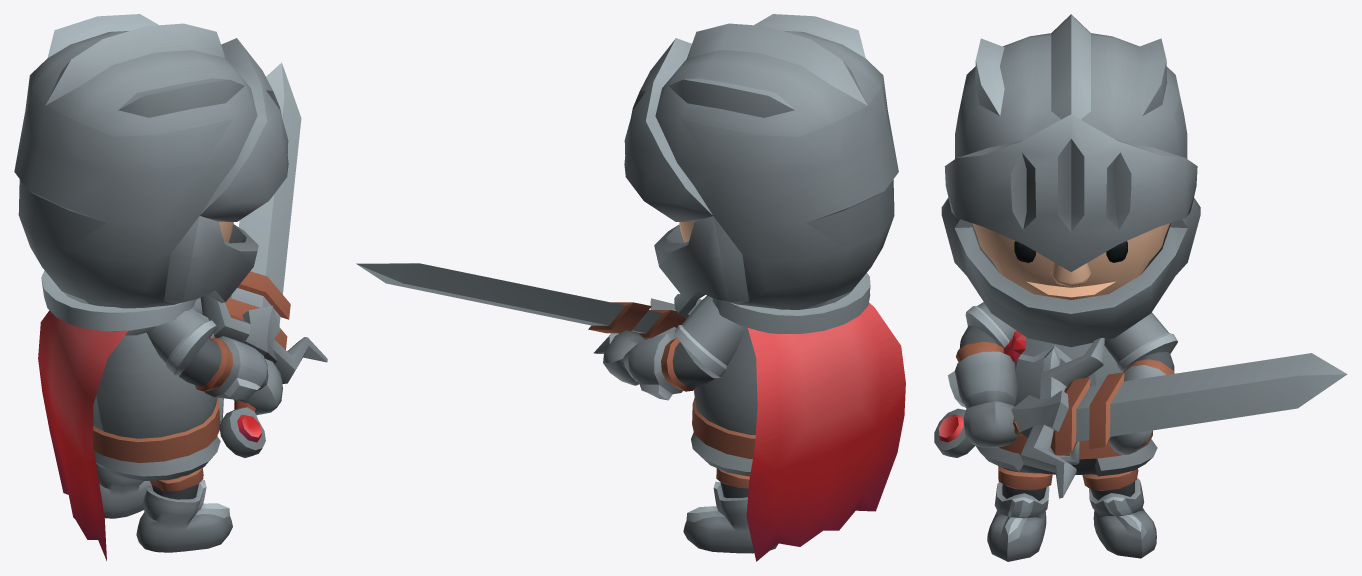
Rendered from outrider.glb.
The picture shows the model from 3 angles, left to right: view 1: azimuth 30°, elevation 25°; view 2: azimuth 150°, elevation 25°; view 3: azimuth 270°, elevation 25°; orthographic projection.
Parts seen in each view (by area): view 1: outrider; view 2: outrider; view 3: outrider.
Boxes of the visible parts, bbox=[...] form: outrider: bbox=[14, 14, 327, 560]; outrider: bbox=[356, 14, 905, 561]; outrider: bbox=[934, 14, 1347, 561].
Bounding box in the file's own units: 2 × 2.43 × 1.82.
1 material, 1 textured.
